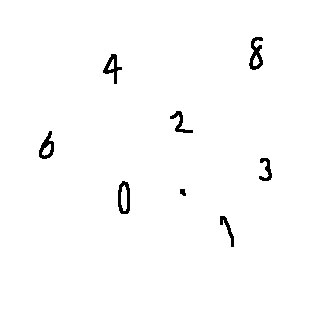.: (175, 186, 192, 201)
0: (111, 177, 136, 223)
1: (211, 213, 247, 253)
2: (163, 105, 201, 146)
3: (254, 152, 277, 194)
4: (98, 46, 130, 90)
6: (33, 125, 62, 163)
8: (244, 33, 276, 80)
